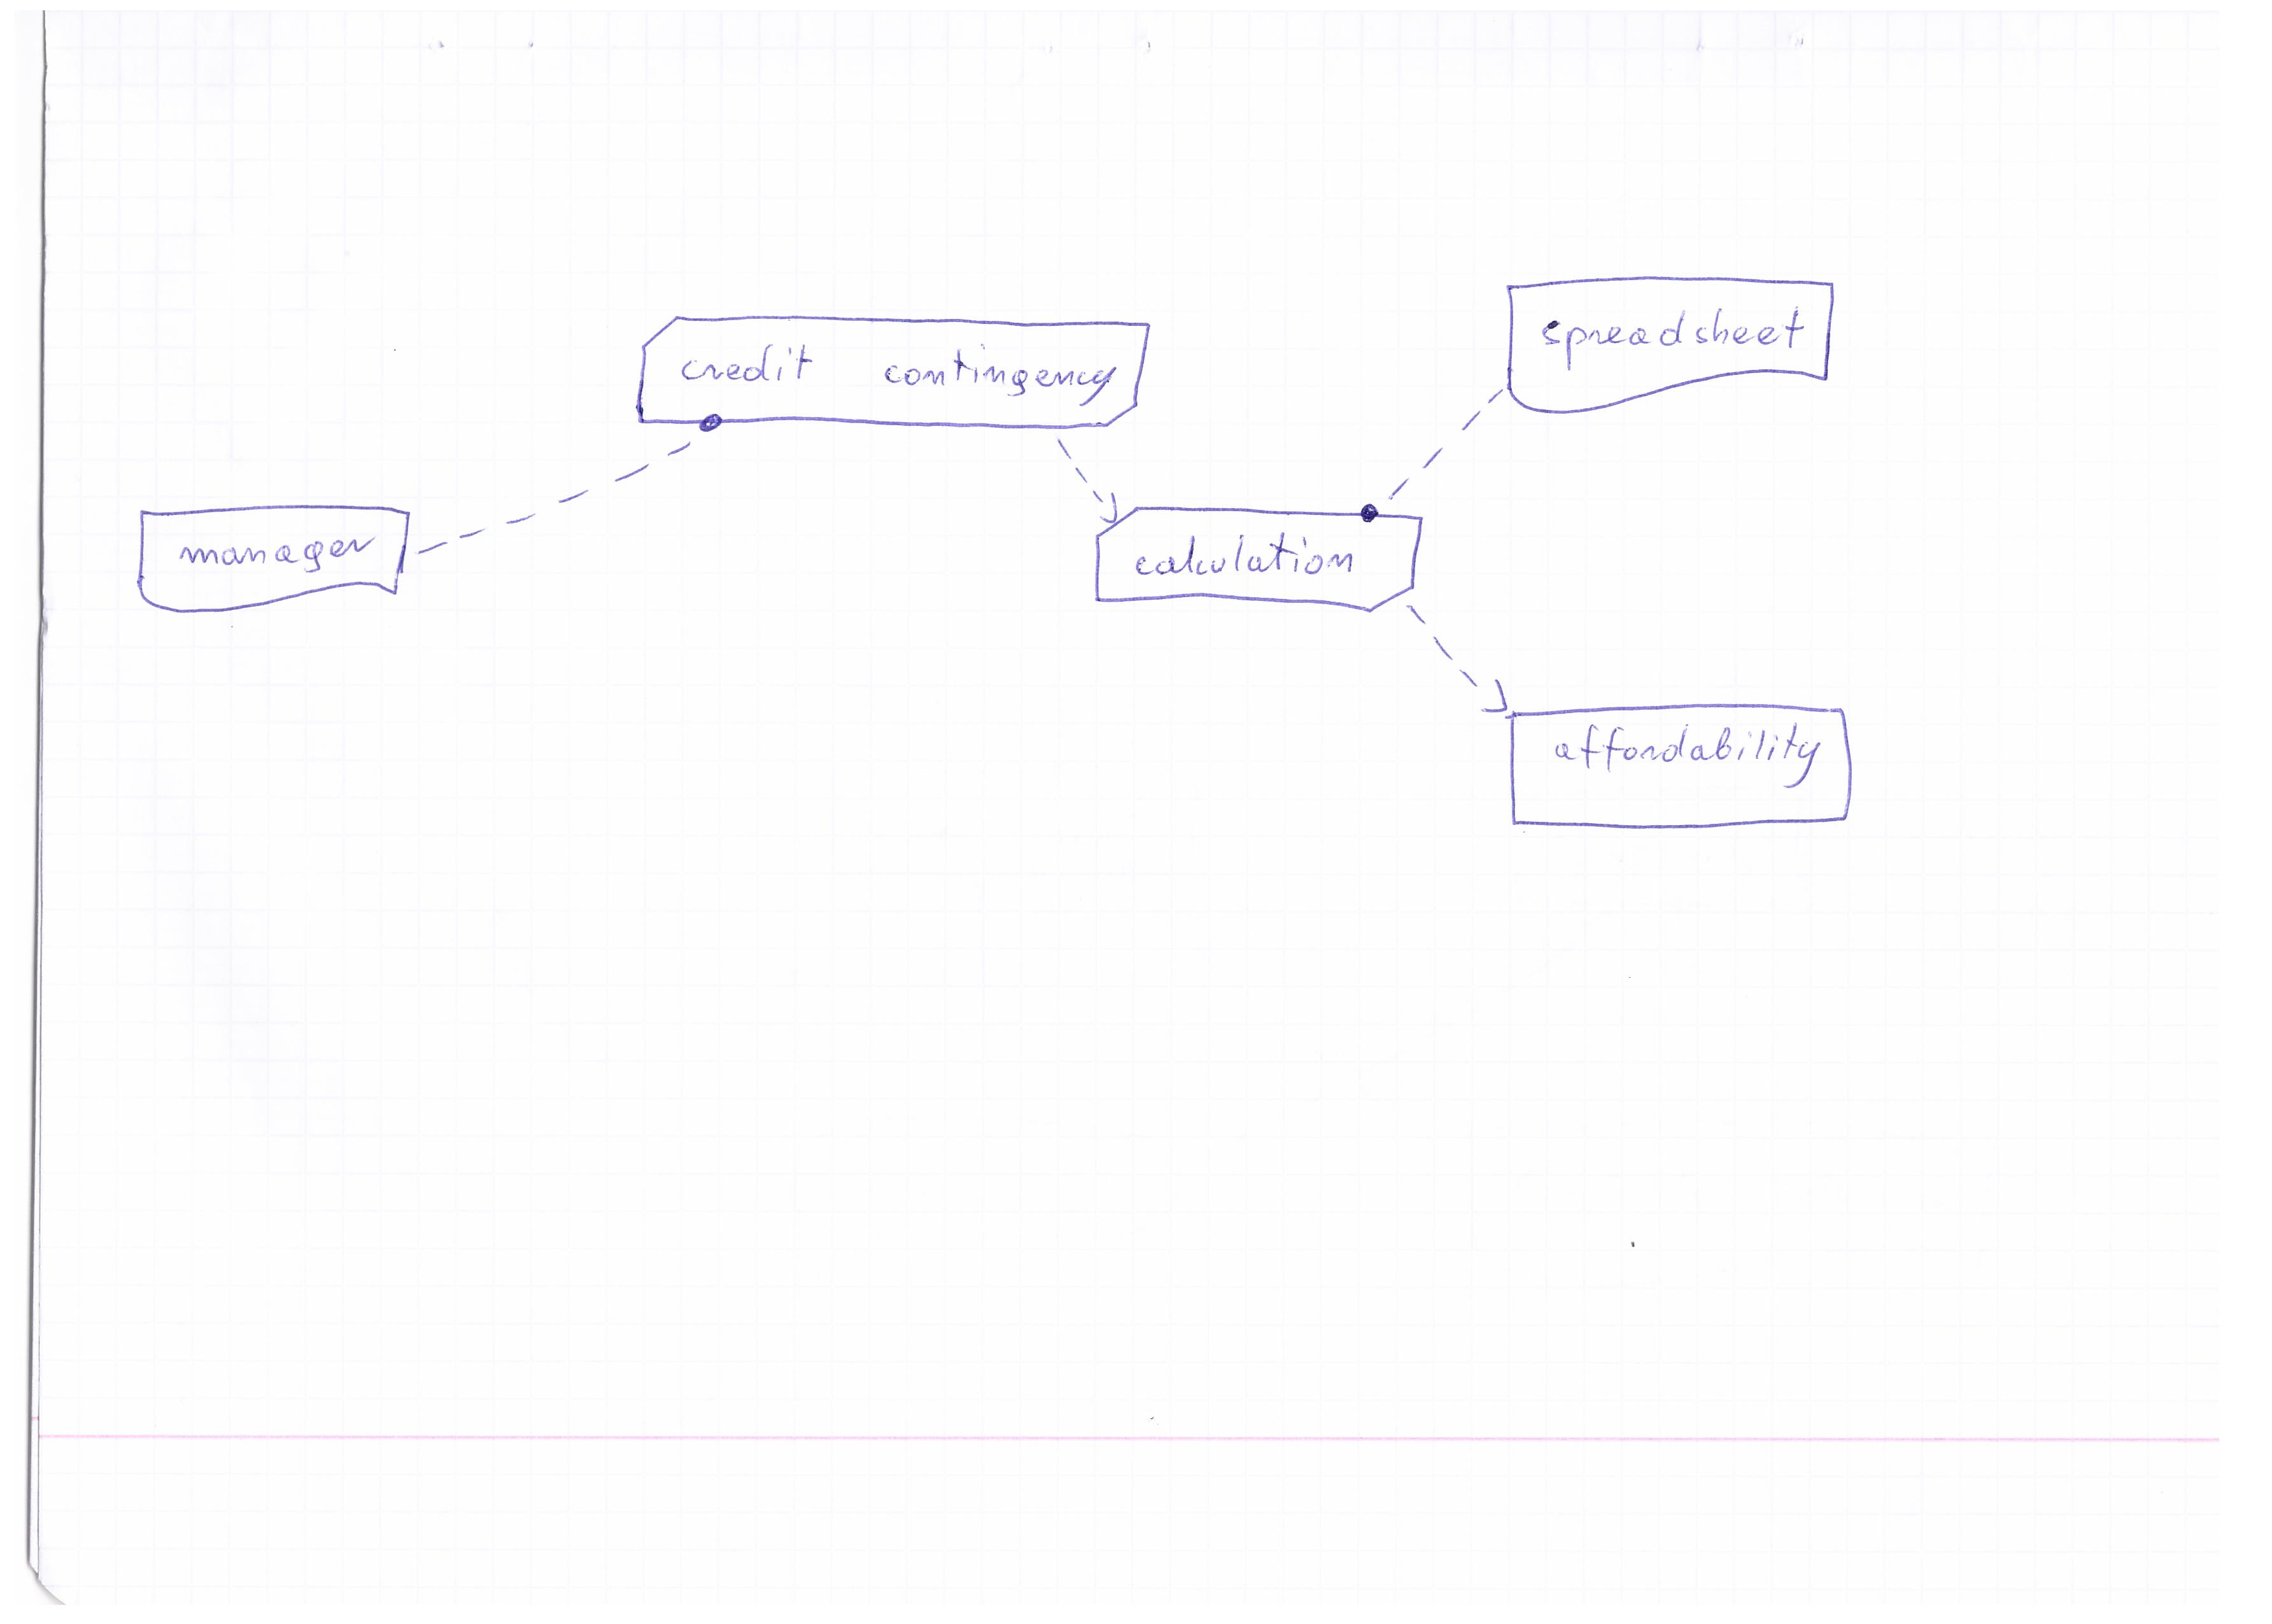arrow_authority_requirement: (409, 411, 733, 564), (1349, 374, 1516, 526)
arrow_knowledge_requirement: (1393, 592, 1520, 724), (1038, 425, 1132, 531)
node_decision: (1506, 707, 1873, 852)
node_knowledge_model: (626, 309, 1158, 429), (1082, 499, 1432, 622)
node_knowledge_source: (1502, 274, 1843, 420), (125, 497, 416, 629)
text: (666, 327, 1126, 411), (1541, 717, 1834, 800), (1534, 299, 1819, 367), (1119, 527, 1378, 592), (167, 522, 381, 580)
